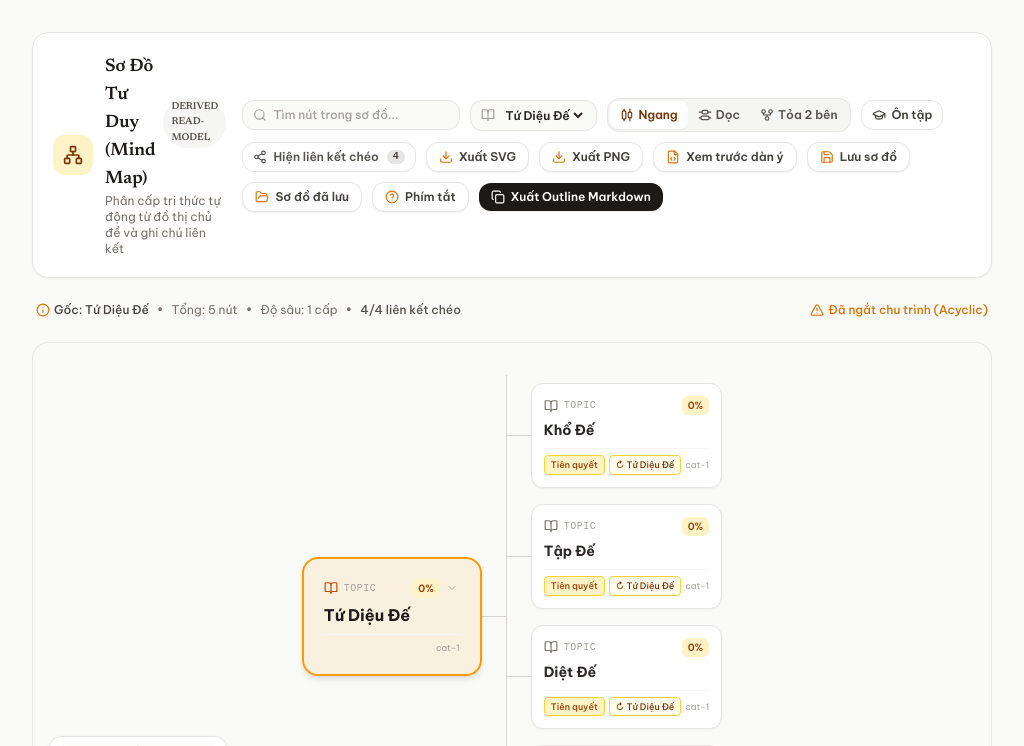
Mind Map Phase A: Edge-Type Semantic Filter Suite › Scenario 2: Renders filter pills for All and present edge types with correct counts
Note: Toggle cross-links on
Click the button titled "Bật/tắt hiển thị liên kết chéo trên sơ đồ" at [329, 157], box [242,142,416,172]
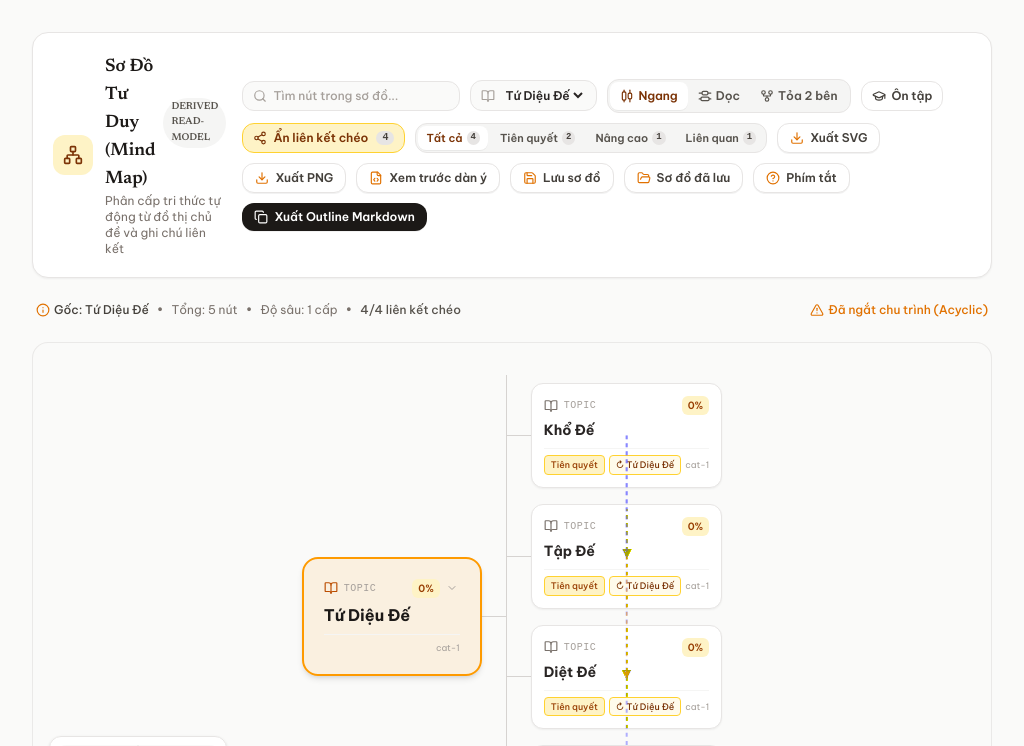
Now the button with test id "edge-filter-pill-all" shows "4", box [418,126,488,150]
Now the button with test id "edge-filter-pill-prerequisite" shows "2", box [492,126,583,150]
Now the button with test id "edge-filter-pill-related" shows "1", box [678,126,764,150]
